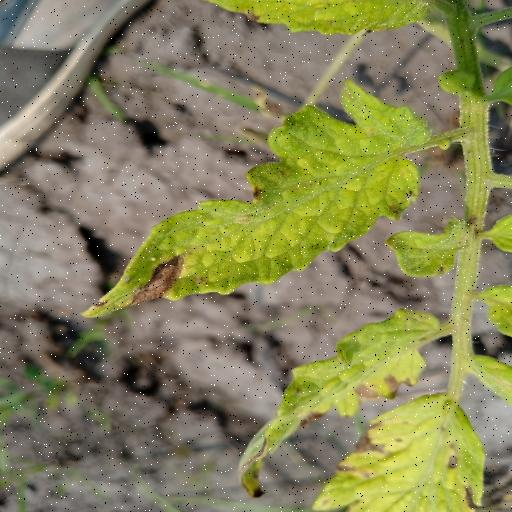Tomato_Brown_Spots: (76, 77, 442, 324), (235, 305, 450, 500), (311, 389, 488, 512)
